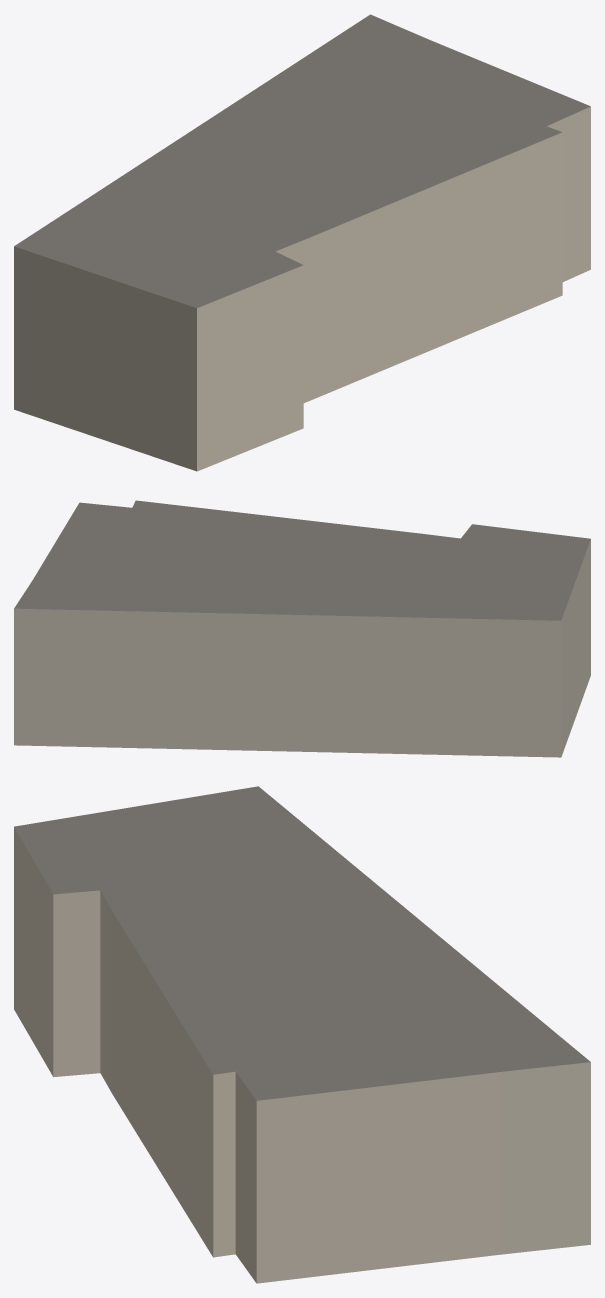
3 renders of one model, top to bottom at view 1: azimuth 30°, elevation 25°; view 2: azimuth 150°, elevation 25°; view 3: azimuth 270°, elevation 25°, orthographic. The views are drawn at different scales.
Visible parts, largest first — view 1: HP-w757497626; view 2: HP-w757497626; view 3: HP-w757497626.
Part boxes in pixels (left/top/right/bottom): HP-w757497626: left=14, top=14, right=590, bottom=471; HP-w757497626: left=14, top=500, right=590, bottom=757; HP-w757497626: left=14, top=786, right=590, bottom=1283.
Bounding box in the file's own units: 66.47 × 18 × 51.51.
